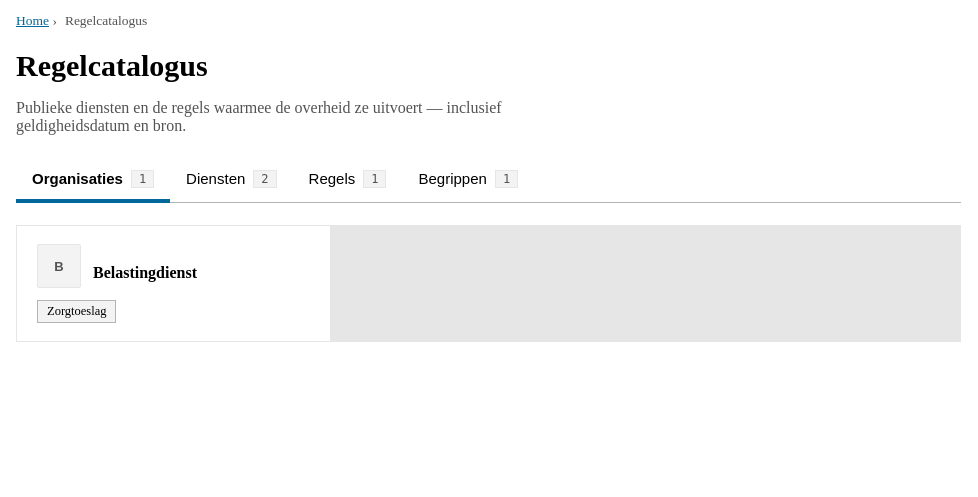
Test: Regelcatalogus › Rules tab: a rule with no start date shows an em dash, not an empty cell
The width and height of the screenshot is (978, 497).
Click the tab "Regels 1". click: (347,181)
box: [292,159,402,203]
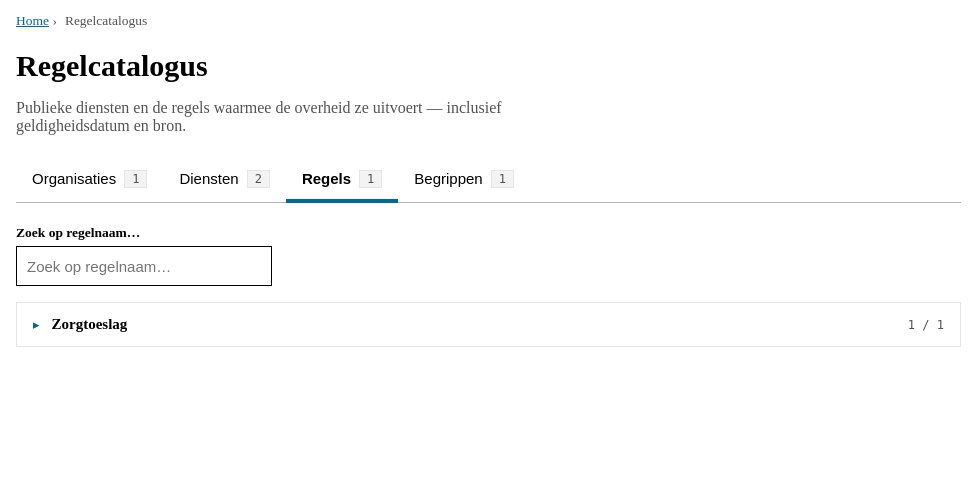
Click the heading "Zorgtoeslag 1 / 1". click: (89,324)
box: [52,316,944,332]
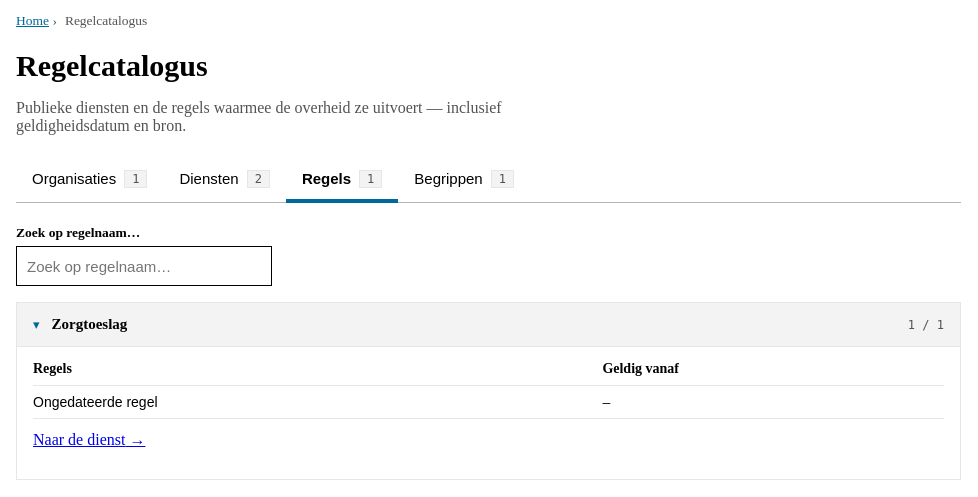
Now the cell "—" is shown, box [602,386,944,419]
